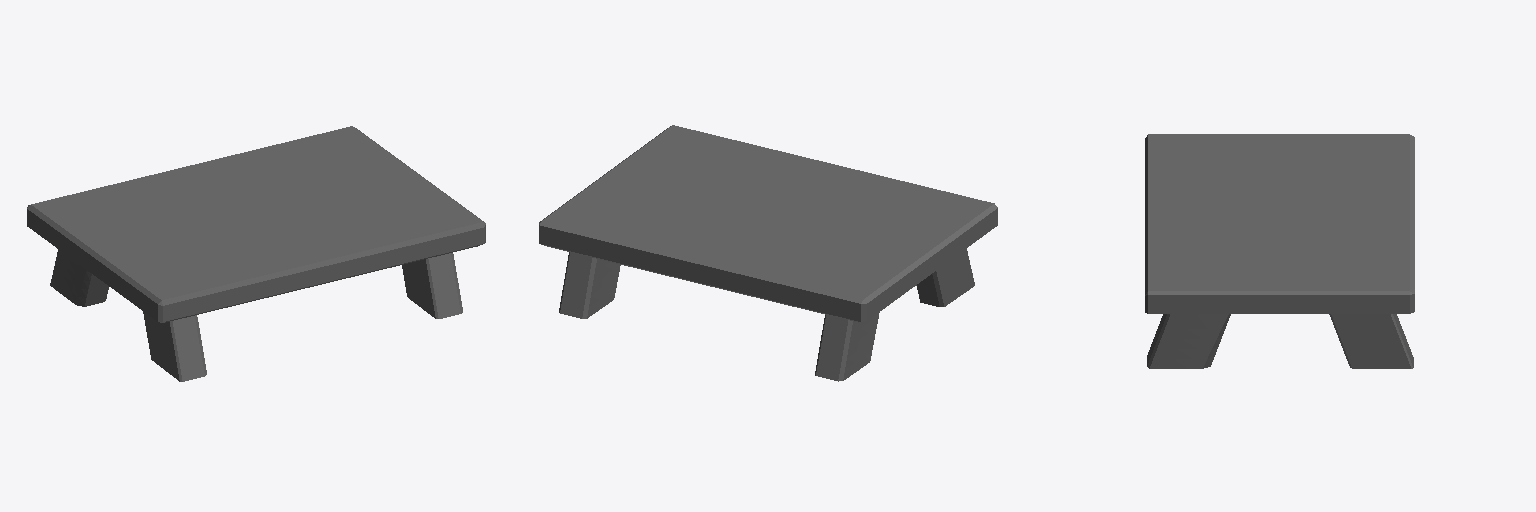
File: Table_Low.obj
3 views of the same model, side by side, from view 1: azimuth 30°, elevation 25°; view 2: azimuth 150°, elevation 25°; view 3: azimuth 270°, elevation 25° (orthographic).
Parts seen in each view (by area): view 1: Table_low; view 2: Table_low; view 3: Table_low.
Part boxes in pixels (bbox=[...]): Table_low: bbox=[27, 126, 485, 381]; Table_low: bbox=[539, 125, 997, 381]; Table_low: bbox=[1145, 134, 1414, 368].
Size of the model in its own units: 142 by 35.85 by 101.